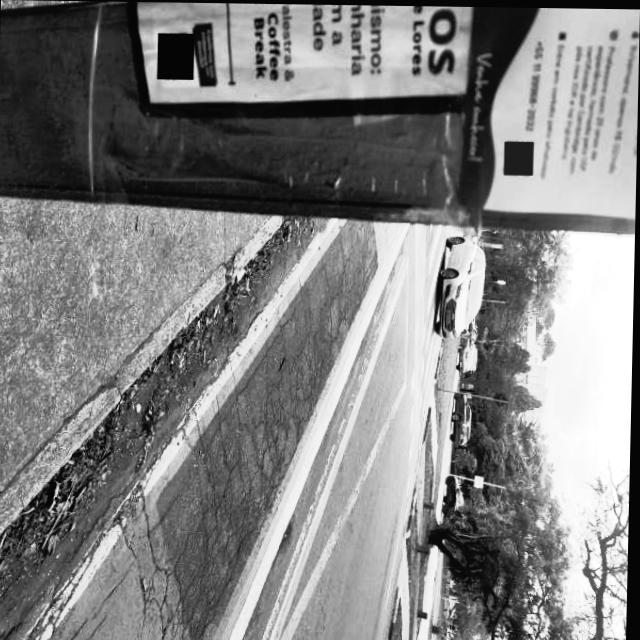qr_code: (157, 33, 193, 79), (503, 140, 534, 174)
